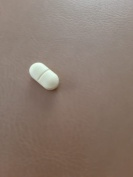Aferin: (28, 61, 61, 92)
